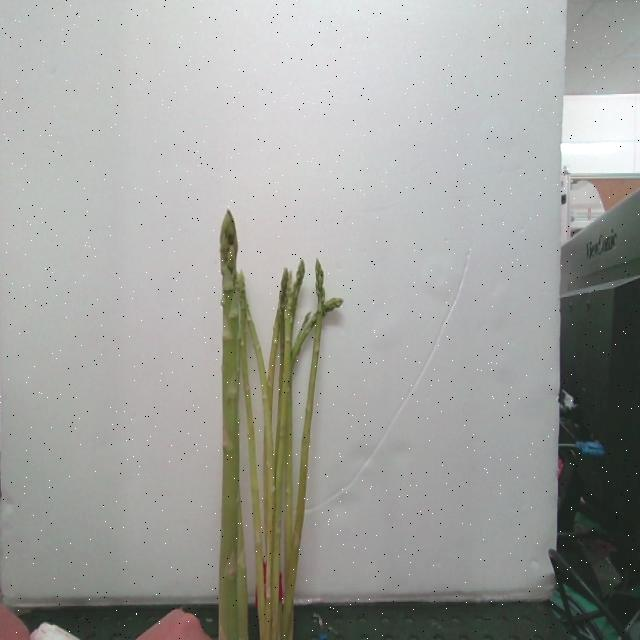aspargus: (219, 211, 244, 640)
